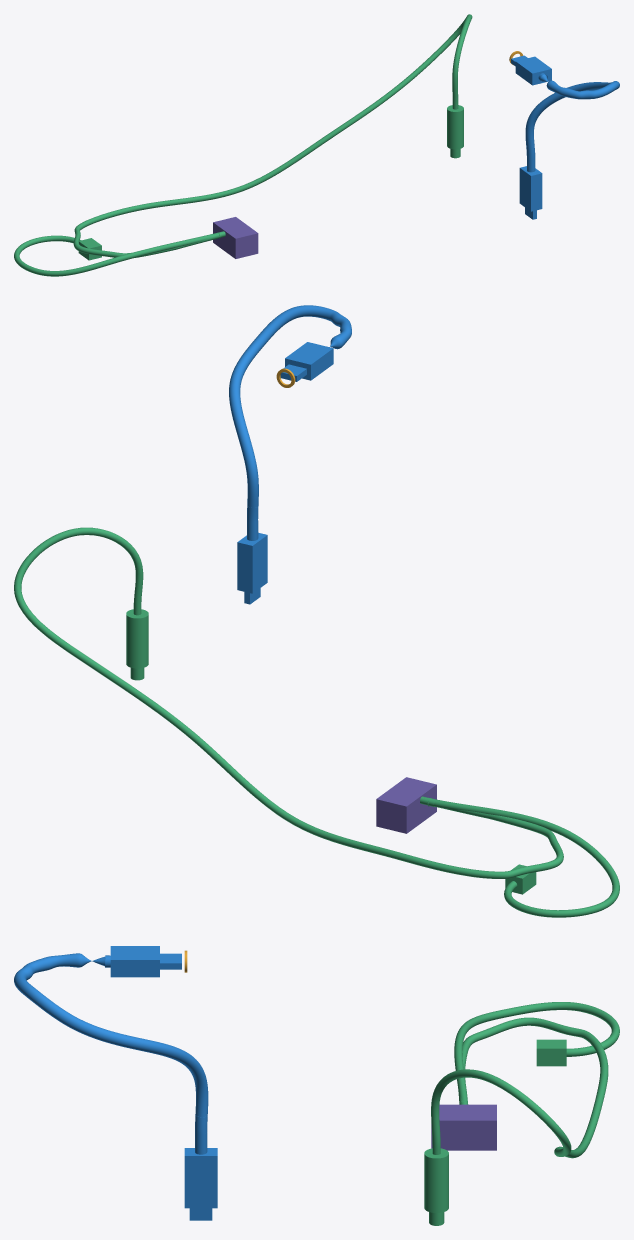
Rendered from wiring_layout.glb.
3 views of the same model, one above another, from view 1: azimuth 30°, elevation 25°; view 2: azimuth 150°, elevation 25°; view 3: azimuth 270°, elevation 25° (orthographic). The views are drawn at different scales.
Visible parts, largest first — view 1: wiring_layout (×3); view 2: wiring_layout (×3); view 3: wiring_layout (×3).
Part boxes in pixels (x1,y1,x2,y2): wiring_layout (×3): (14,14,619,276); wiring_layout (×3): (14,305,619,917); wiring_layout (×3): (14,946,619,1225).
Size of the model in its own units: 0.2743 by 0.1305 by 0.2212.
